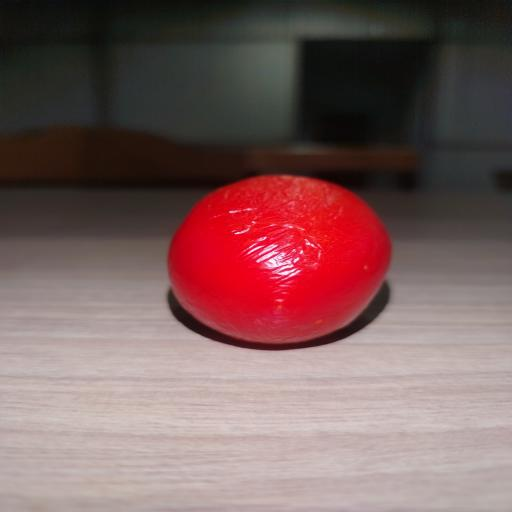spoiled: (168, 175, 390, 344)
